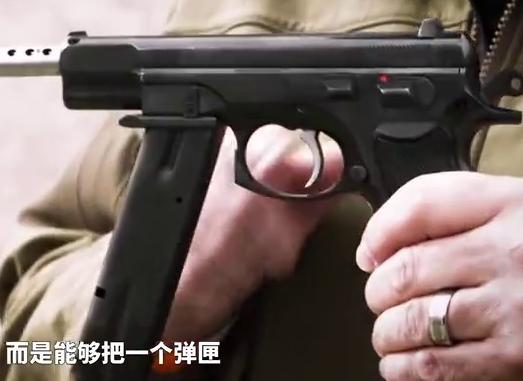gun: (1, 1, 523, 381)
